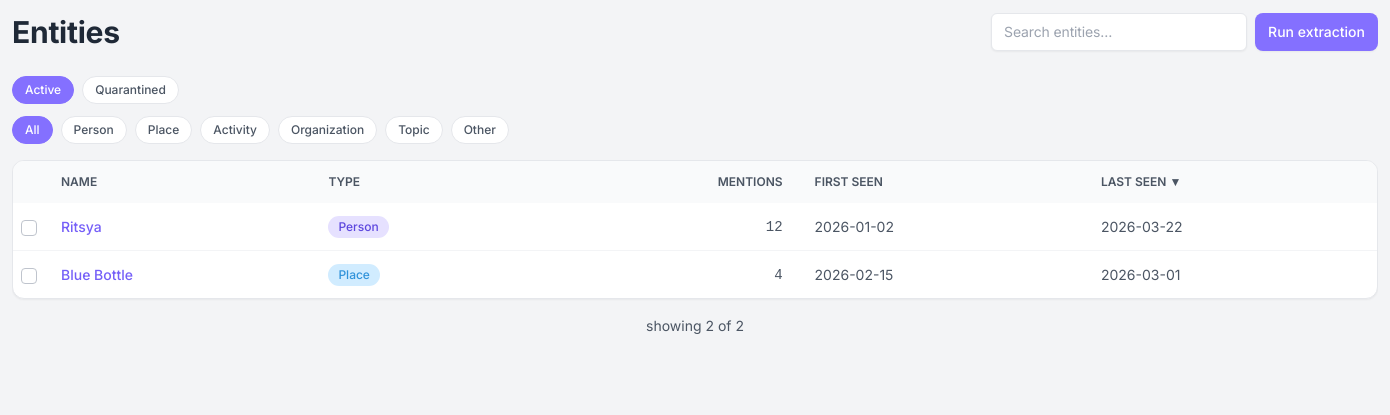
EntityListView › shows selection toolbar when checkbox is toggled
Step 1. Click the checkbox with test id "entity-checkbox" next to "Ritsya" → x=29, y=228, box [21,220,37,236]
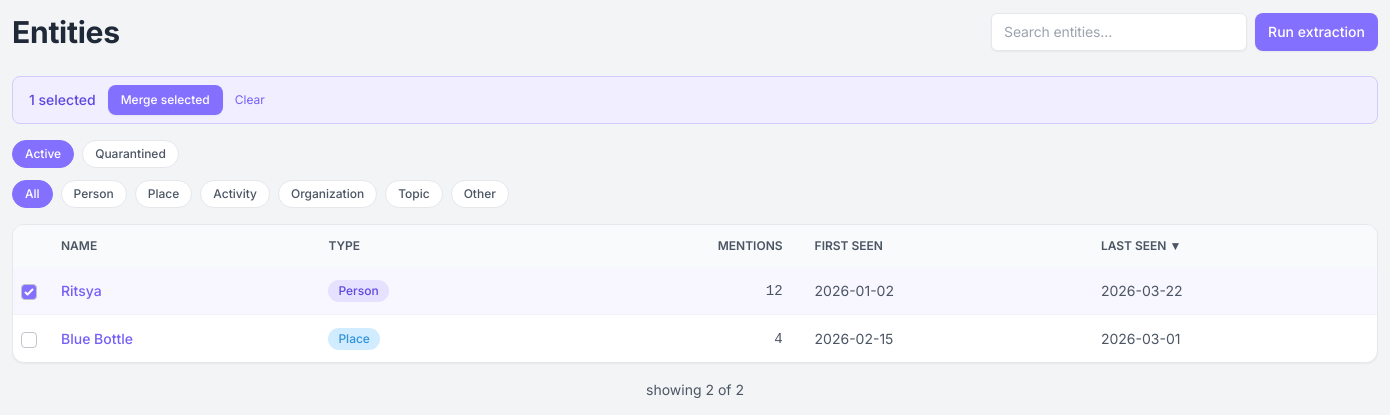
Result: the element with test id "selection-toolbar" is shown at [12,76,1378,124]
Result: the element with test id "selection-toolbar" shows "1 selected" at [29,91,96,108]
